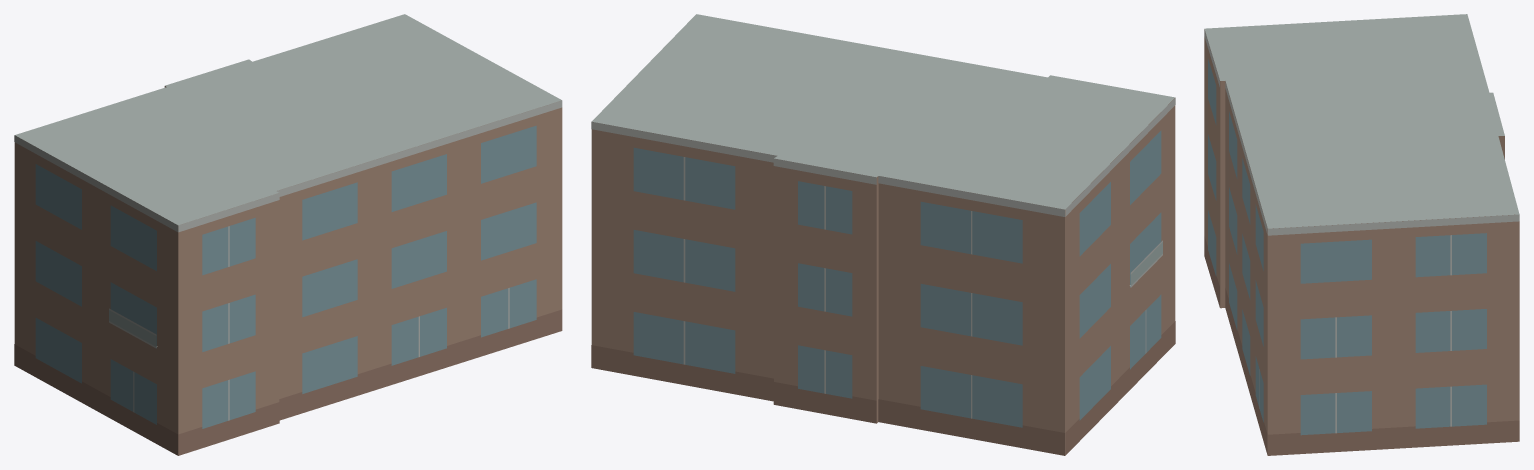
File: survey-upis-32530504.glb
3 views of the same model, side by side, from view 1: azimuth 30°, elevation 25°; view 2: azimuth 150°, elevation 25°; view 3: azimuth 270°, elevation 25° (orthographic). The views are drawn at different scales.
Parts seen in each view (by area): view 1: survey-upis-32530504.tmp; view 2: survey-upis-32530504.tmp; view 3: survey-upis-32530504.tmp.
Part boxes in pixels (bbox=[...]): survey-upis-32530504.tmp: bbox=[14, 14, 562, 455]; survey-upis-32530504.tmp: bbox=[591, 14, 1175, 455]; survey-upis-32530504.tmp: bbox=[1204, 14, 1519, 455].
Size of the model in its own units: 16.13 by 7.95 by 10.01.
